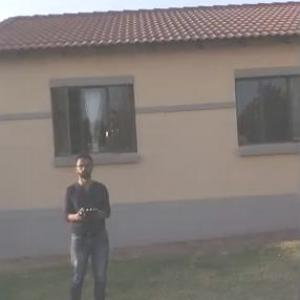follow: (59, 147, 117, 299)
